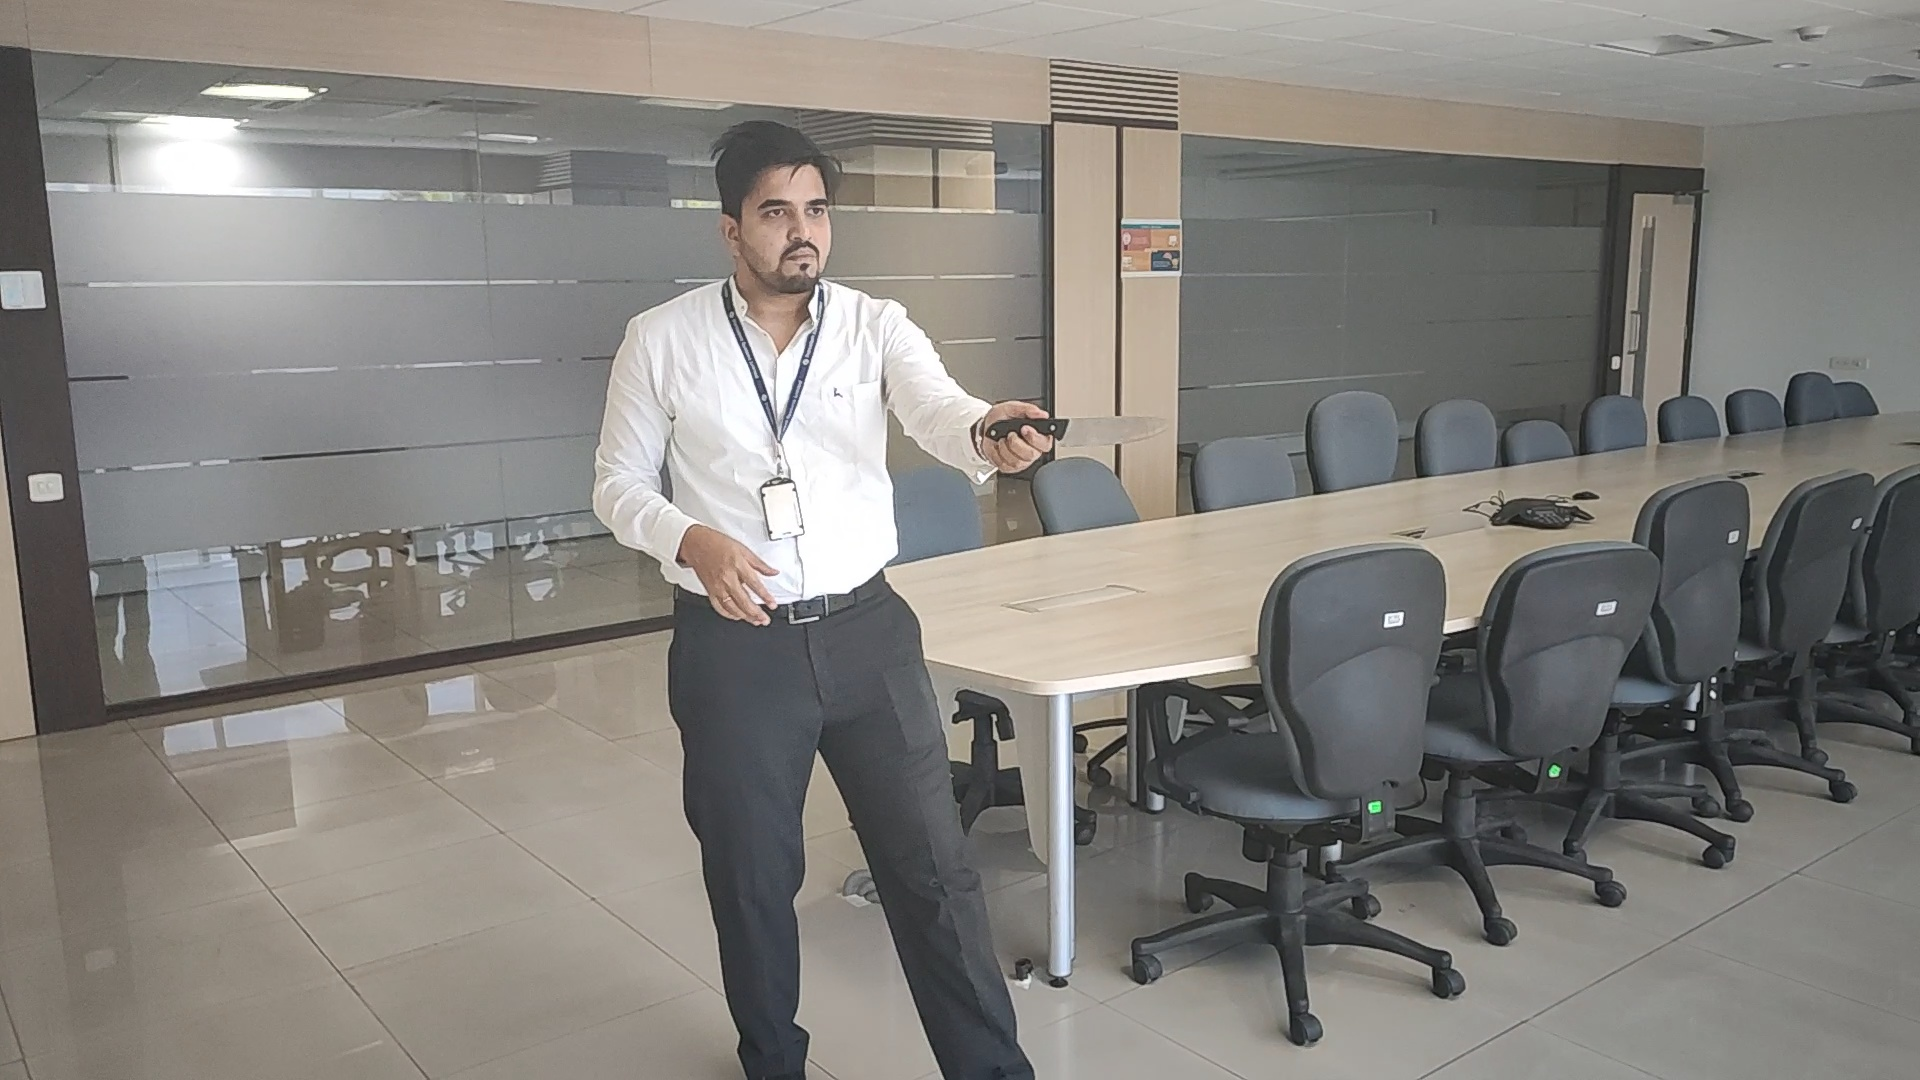knife: (1054, 415, 1175, 447)
